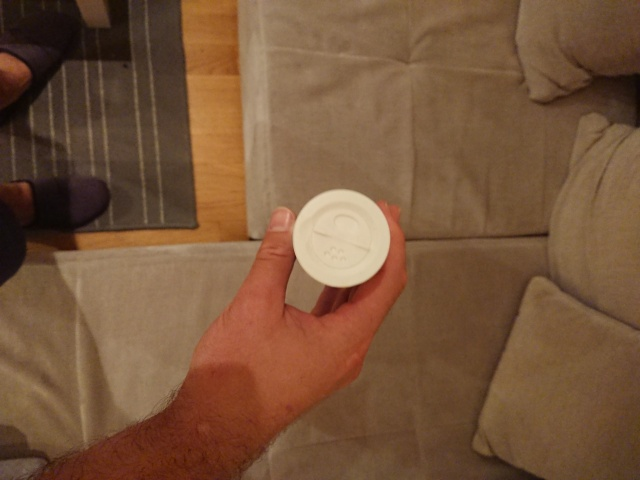Solana Pag Fine Sea Salt 250g: (289, 186, 394, 291)
